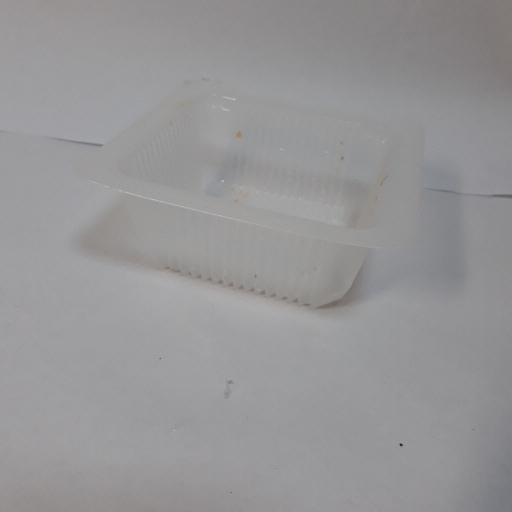Plastic_4: (72, 72, 425, 317)
